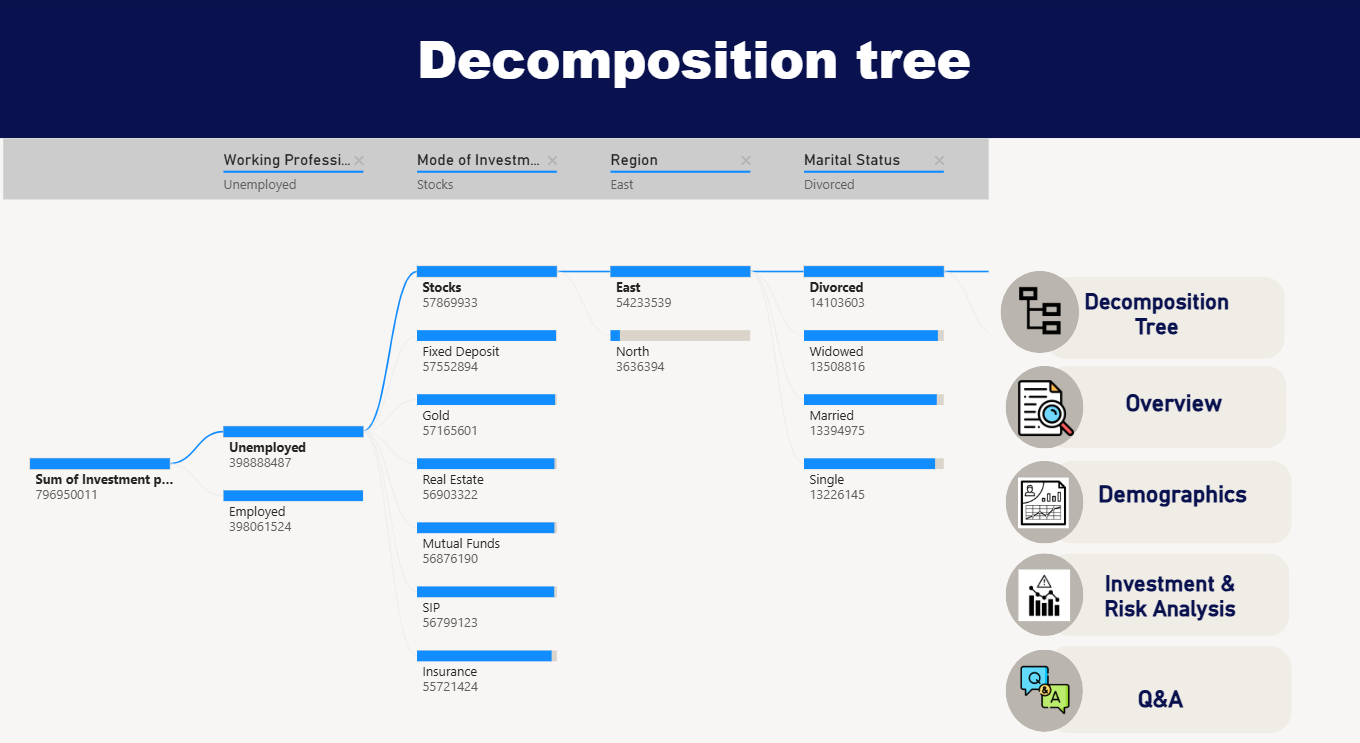

What the dashboard file says about the page in this screenshot:
{"tool":"powerbi","page":{"name":"Decomposition tree","canvas":[1280,720],"ordinal":1},"visuals":[{"type":"textbox","box":[0,0,1280,131.4],"z":0},{"type":"shape","box":[978.5,517.6,223.3,77.2],"z":0,"group":"g1"},{"type":"decompositionTreeVisual","fields":{"Analyze":["Sum(investment_survey.Investment per month)"],"ExplainBy":["investment_survey.Working Professional","investment_survey.Mode of Investment","investment_survey.Region","investment_survey.Marital Status","investment_survey.Gender","investment_survey.Goal","investment_survey.Duration to saving ","investment_survey.Annual income","investment_survey.Age"]},"box":[0,126.7,926.7,593],"z":1000},{"type":"shape","box":[979.9,431.8,223.3,77.2],"z":1000,"group":"g1"},{"type":"shape","box":[975.5,343.1,223.3,76.7],"z":2000,"group":"g1"},{"type":"shape","box":[974,261,222.8,76.3],"z":3000,"group":"g1"},{"type":"group","id":"g1","title":"Group 1","box":[932.6,254.7,270.8,430.2],"z":4000},{"type":"actionButton","title":"Decomposition Tree","box":[996.4,271,163,58.8],"z":4000,"group":"g1"},{"type":"shape","box":[932.6,254.7,73.3,76.7],"z":5000,"group":"g1"},{"type":"image","box":[937.2,267.4,64,48.6],"z":6000,"group":"g1"},{"type":"actionButton","title":"Overview","box":[1012.6,364.6,162.1,32.9],"z":7000,"group":"g1"},{"type":"actionButton","title":"Demographics","box":[1011.2,450.4,162.1,31.4],"z":8000,"group":"g1"},{"type":"actionButton","title":"Investment & Risk Analysis","box":[1009.7,533.3,162.1,58.6],"z":9000,"group":"g1"},{"type":"shape","box":[937.2,343.2,72.5,77.2],"z":10000,"group":"g1"},{"type":"shape","box":[937.2,517.6,72.5,77.2],"z":11000,"group":"g1"},{"type":"shape","box":[937.2,431.8,72.5,77.2],"z":12000,"group":"g1"},{"type":"image","box":[948.7,337.3,52.1,90.7],"z":13000,"group":"g1"},{"type":"image","box":[949.3,443.1,47.5,54.7],"z":14000,"group":"g1"},{"type":"image","box":[948.2,532.7,50.9,47.7],"z":15000,"group":"g1"},{"type":"shape","box":[975.5,603.5,227.9,81.4],"z":16000,"group":"g1"},{"type":"actionButton","title":"Q&A","box":[1000.1,641.2,163,35],"z":17000,"group":"g1"},{"type":"shape","box":[937.3,607,72.1,76.7],"z":18000,"group":"g1"},{"type":"image","box":[951.2,618.7,45.3,52.3],"z":19000,"group":"g1"}]}

Visuals, with their boxes in screenshot pixels (x1, y1, x2, y2), scaled from the page's 1280x720 canvas onto the 1360x743 screenshot:
textbox: 0/0/1359/136
shape: 1040/534/1277/614
decompositionTreeVisual - Sum(investment_survey.Investment per month) x investment_survey.Working Professional: 0/131/985/742
shape: 1041/446/1278/525
shape: 1036/354/1274/433
shape: 1035/269/1272/348
"Group 1" group: 991/263/1279/707
"Decomposition Tree" actionButton: 1059/280/1232/340
shape: 991/263/1069/342
image: 996/276/1064/326
"Overview" actionButton: 1076/376/1248/410
"Demographics" actionButton: 1074/465/1247/497
"Investment & Risk Analysis" actionButton: 1073/550/1245/611
shape: 996/354/1073/434
shape: 996/534/1073/614
shape: 996/446/1073/525
image: 1008/348/1063/442
image: 1009/457/1059/514
image: 1007/550/1062/599
shape: 1036/623/1279/707
"Q&A" actionButton: 1063/662/1236/698
shape: 996/626/1072/706
image: 1011/638/1059/692
